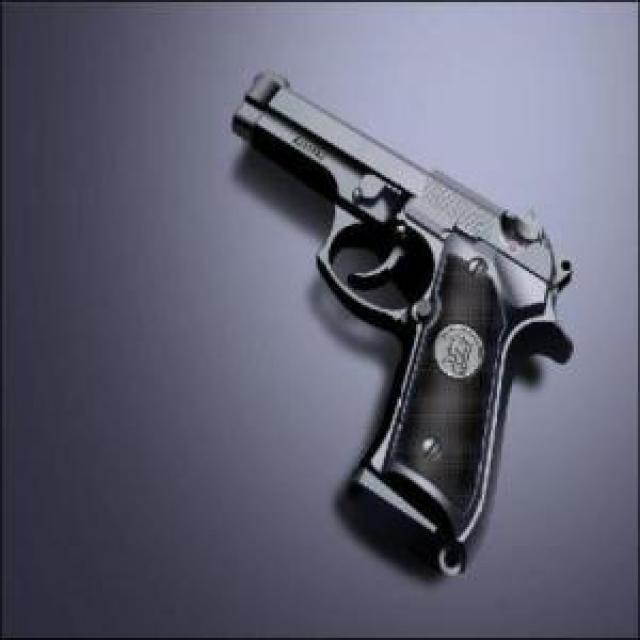pistol: (220, 66, 577, 571)
